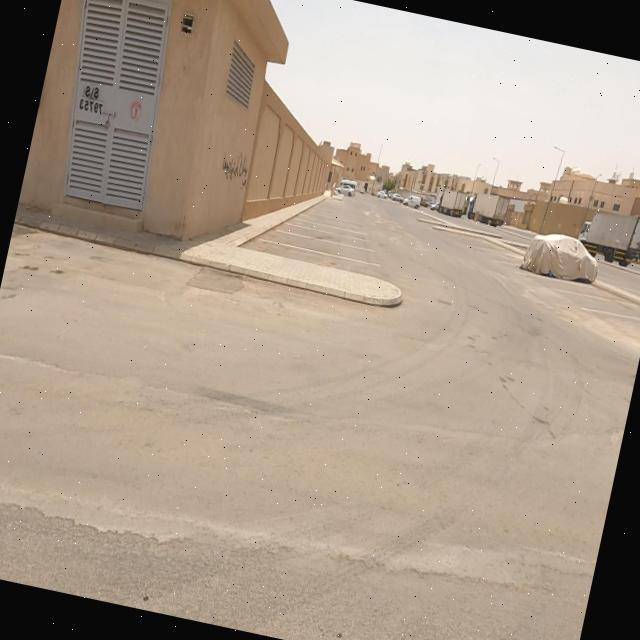Graffiti: (217, 150, 253, 194)
